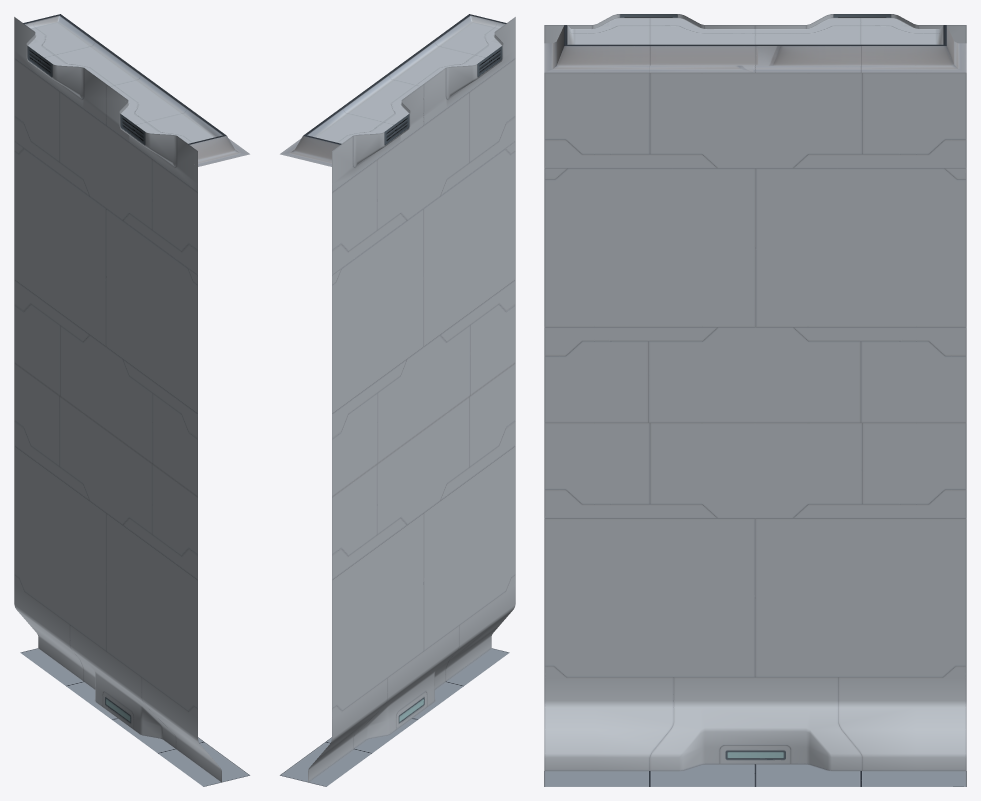
File: Room_A_4m_blank_wall_inner_tall.fbx
The picture shows the model from 3 angles, left to right: view 1: azimuth 30°, elevation 25°; view 2: azimuth 150°, elevation 25°; view 3: azimuth 270°, elevation 25°; orthographic projection. The views are drawn at different scales.
Visible parts, largest first — view 1: Room_A_4m_blank_wall_inner_tall; view 2: Room_A_4m_blank_wall_inner_tall; view 3: Room_A_4m_blank_wall_inner_tall.
Boxes of the visible parts, <box> form: Room_A_4m_blank_wall_inner_tall: <box>14,14,249,786</box>; Room_A_4m_blank_wall_inner_tall: <box>280,14,515,786</box>; Room_A_4m_blank_wall_inner_tall: <box>544,14,966,786</box>.
Bounding box in the file's own units: 90.84 × 766 × 400.
Materials: 3 (3 with a texture image).
